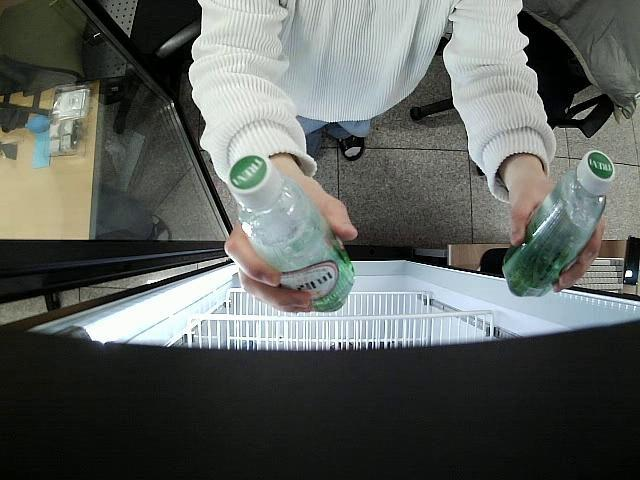18_trevi: (226, 154, 354, 312), (500, 148, 616, 298)
